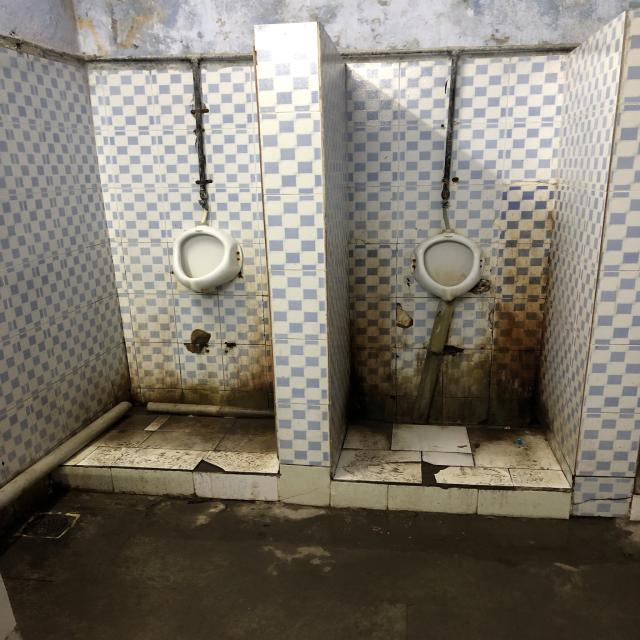dirty_floor: (1, 8, 638, 522), (87, 55, 273, 412), (0, 38, 131, 491), (571, 9, 638, 519)
